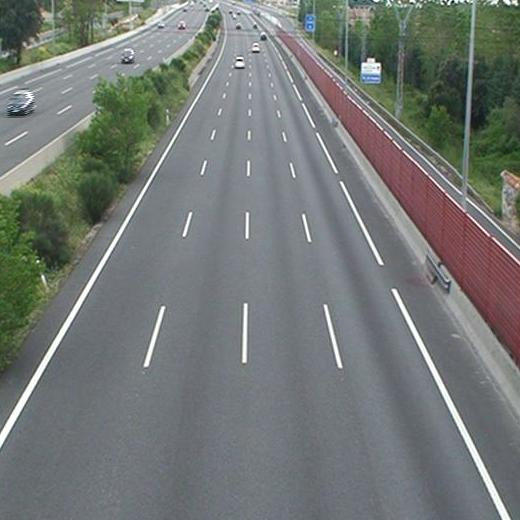car: (234, 57, 245, 68), (251, 43, 259, 52), (260, 32, 266, 38)
